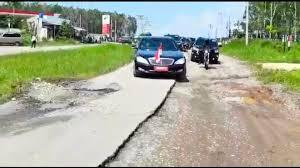Pothole: (11, 67, 127, 116), (217, 82, 286, 114)
